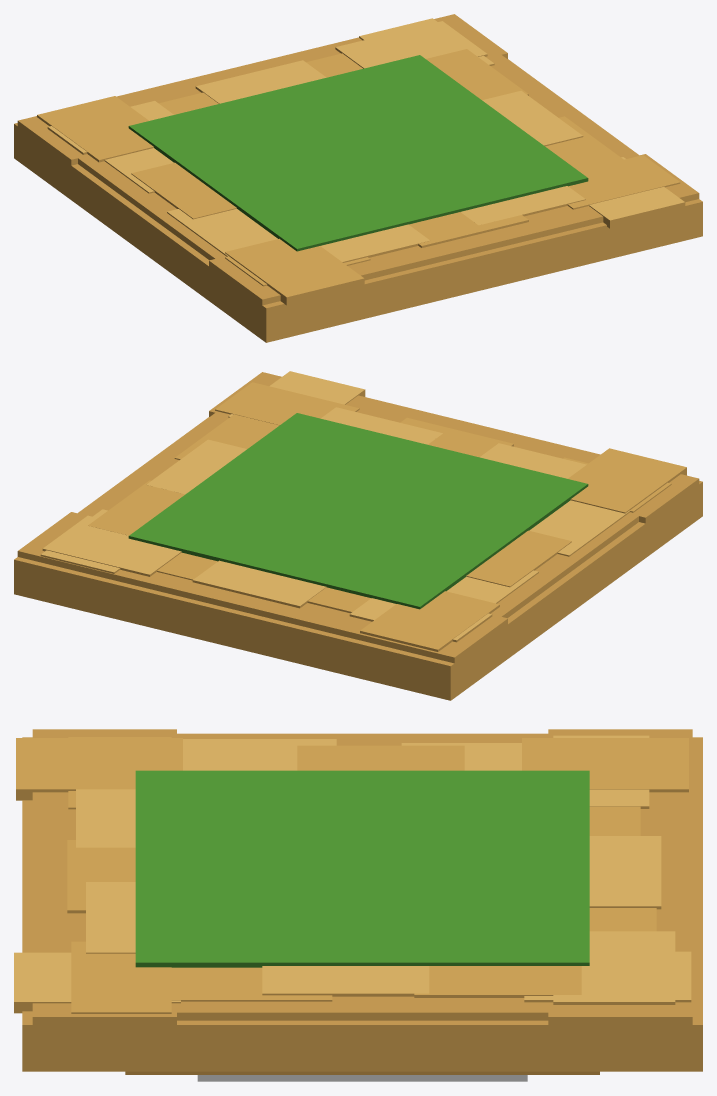
File: sub_island.obj
3 renders of one model, top to bottom at view 1: azimuth 30°, elevation 25°; view 2: azimuth 150°, elevation 25°; view 3: azimuth 270°, elevation 25°, orthographic. The views are drawn at different scales.
Parts seen in each view (by area): view 1: SubIsland; view 2: SubIsland; view 3: SubIsland.
Part boxes in pixels (left/top/right/bottom): SubIsland: left=14, top=14, right=702, bottom=342; SubIsland: left=14, top=371, right=702, bottom=700; SubIsland: left=14, top=729, right=702, bottom=1081.
Bounding box in the file's own units: 66 × 15.55 × 66.79.
